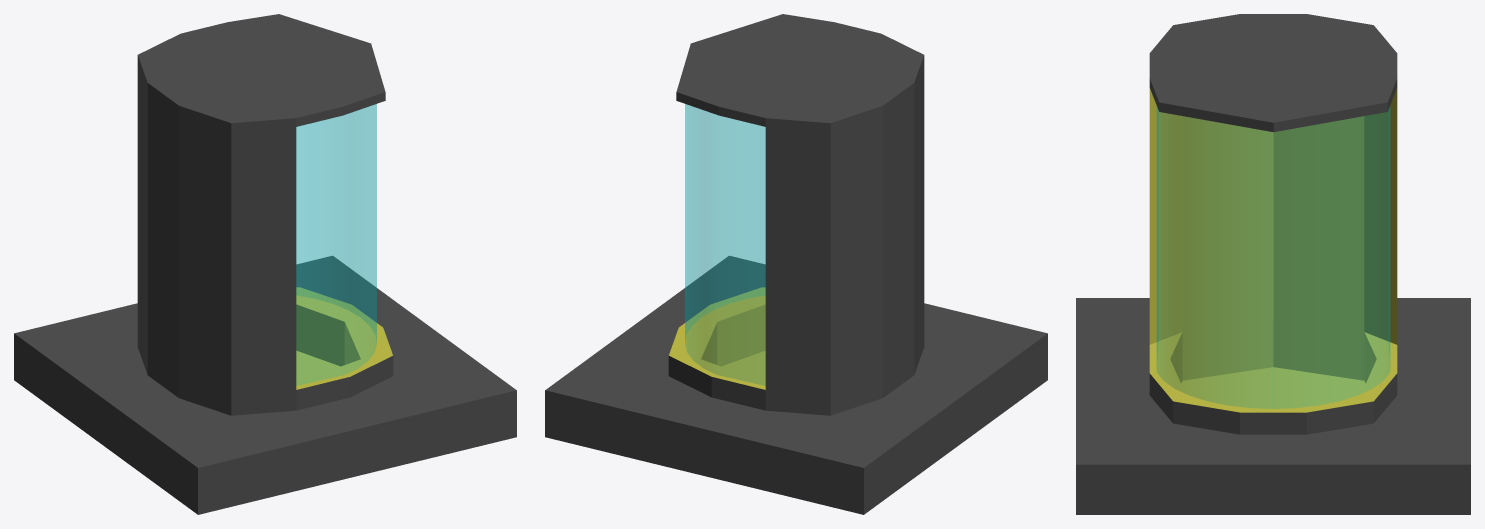
The model's file is power_station.glb.
3 views of the same model, side by side, from view 1: azimuth 30°, elevation 25°; view 2: azimuth 150°, elevation 25°; view 3: azimuth 270°, elevation 25° (orthographic). The views are drawn at different scales.
Parts seen in each view (by area): view 1: Base-col, Glass; view 2: Base-col, Glass; view 3: Base-col, Glass.
Boxes of the visible parts, x1,y1,x2,y2 form: Base-col: [14, 14, 516, 514]; Glass: [296, 104, 376, 385]; Base-col: [545, 14, 1047, 514]; Glass: [685, 104, 765, 385]; Base-col: [1076, 14, 1470, 514]; Glass: [1157, 107, 1389, 408].
Bounding box in the file's own units: 0.8914 × 0.9073 × 0.8914.
